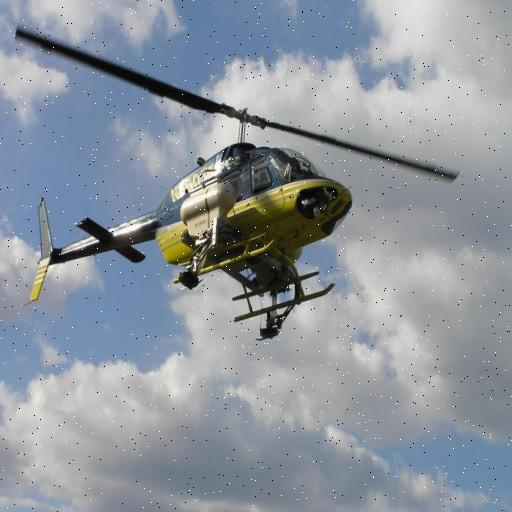helicopter: (11, 26, 461, 343)
